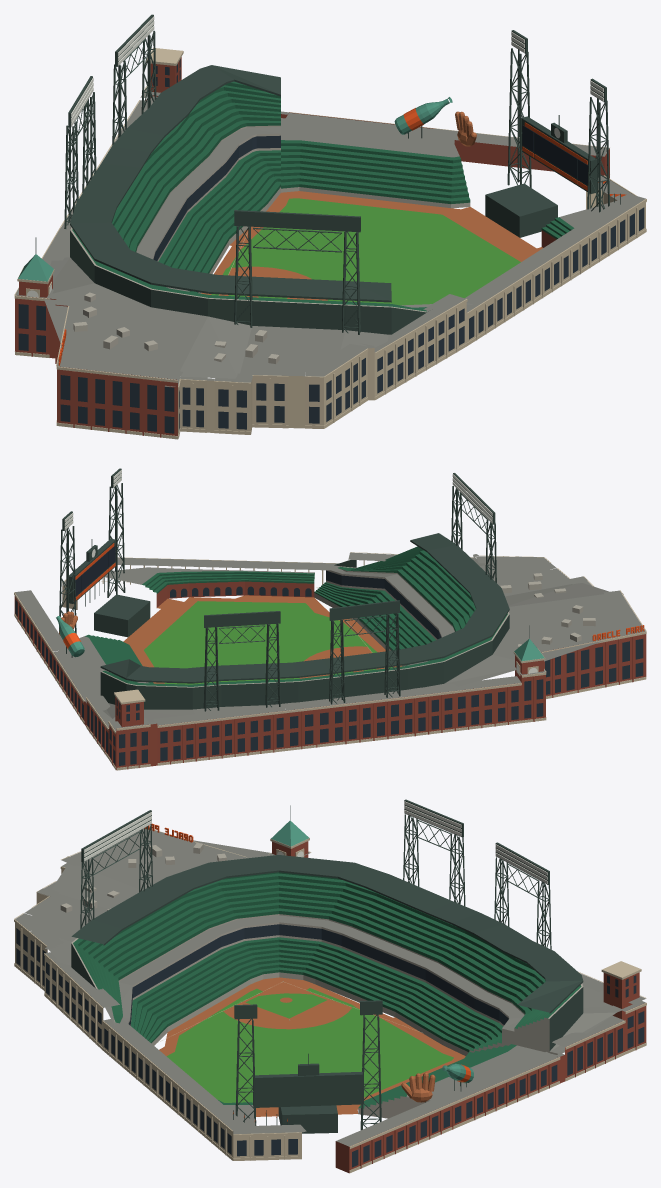
Rendered from oracle-park-near.glb.
3 views of the same model, one above another, from view 1: azimuth 30°, elevation 25°; view 2: azimuth 150°, elevation 25°; view 3: azimuth 270°, elevation 25° (orthographic). The views are drawn at different scales.
Parts seen in each view (by area): view 1: oracle-park-0-steel, oracle-park-0-roof, oracle-park-0-seat, oracle-park-0-stone, oracle-park-0-grass, oracle-park-0-glass, oracle-park-0-brick, oracle-park-0-clay, oracle-park-0-concrete, oracle-park-0-light, oracle-park-0-glow, oracle-park-0-copper (+1 smaller); view 2: oracle-park-0-steel, oracle-park-0-roof, oracle-park-0-brick, oracle-park-0-glass, oracle-park-0-seat, oracle-park-0-grass, oracle-park-0-stone, oracle-park-0-clay, oracle-park-0-concrete, oracle-park-0-copper, oracle-park-0-sign, oracle-park-0-light (+1 smaller); view 3: oracle-park-0-seat, oracle-park-0-steel, oracle-park-0-roof, oracle-park-0-grass, oracle-park-0-glass, oracle-park-0-stone, oracle-park-0-concrete, oracle-park-0-brick, oracle-park-0-clay, oracle-park-0-light, oracle-park-0-copper.
Part boxes in pixels (<box>): oracle-park-0-steel: <box>35,14,620,334</box>; oracle-park-0-roof: <box>15,88,645,386</box>; oracle-park-0-seat: <box>72,81,574,311</box>; oracle-park-0-stone: <box>14,48,646,439</box>; oracle-park-0-grass: <box>211,198,520,305</box>; oracle-park-0-glass: <box>18,59,644,433</box>; oracle-park-0-brick: <box>15,57,609,437</box>; oracle-park-0-clay: <box>201,111,542,300</box>; oracle-park-0-concrete: <box>70,125,470,363</box>; oracle-park-0-light: <box>27,16,603,297</box>; oracle-park-0-glow: <box>522,125,588,184</box>; oracle-park-0-copper: <box>18,97,452,281</box>; oracle-park-0-steel: <box>59,468,529,711</box>; oracle-park-0-roof: <box>15,552,645,731</box>; oracle-park-0-brick: <box>14,581,646,769</box>; oracle-park-0-glass: <box>15,570,643,765</box>; oracle-park-0-seat: <box>85,546,507,686</box>; oracle-park-0-grass: <box>144,601,392,684</box>; oracle-park-0-stone: <box>14,552,646,770</box>; oracle-park-0-clay: <box>59,595,402,683</box>; oracle-park-0-concrete: <box>101,566,595,687</box>; oracle-park-0-copper: <box>56,615,544,661</box>; oracle-park-0-sign: <box>63,543,644,649</box>; oracle-park-0-light: <box>64,470,537,673</box>; oracle-park-0-seat: <box>73,872,581,1108</box>; oracle-park-0-steel: <box>71,799,583,1133</box>; oracle-park-0-roof: <box>15,828,645,1146</box>; oracle-park-0-grass: <box>166,988,453,1102</box>; oracle-park-0-glass: <box>16,924,644,1167</box>; oracle-park-0-stone: <box>14,830,646,1172</box>; oracle-park-0-concrete: <box>60,843,582,1118</box>; oracle-park-0-brick: <box>272,841,646,1173</box>; oracle-park-0-clay: <box>159,977,465,1116</box>; oracle-park-0-light: <box>84,801,547,883</box>; oracle-park-0-copper: <box>271,820,473,1083</box>.
Size of the model in its own units: 296 by 70.1 by 269.
